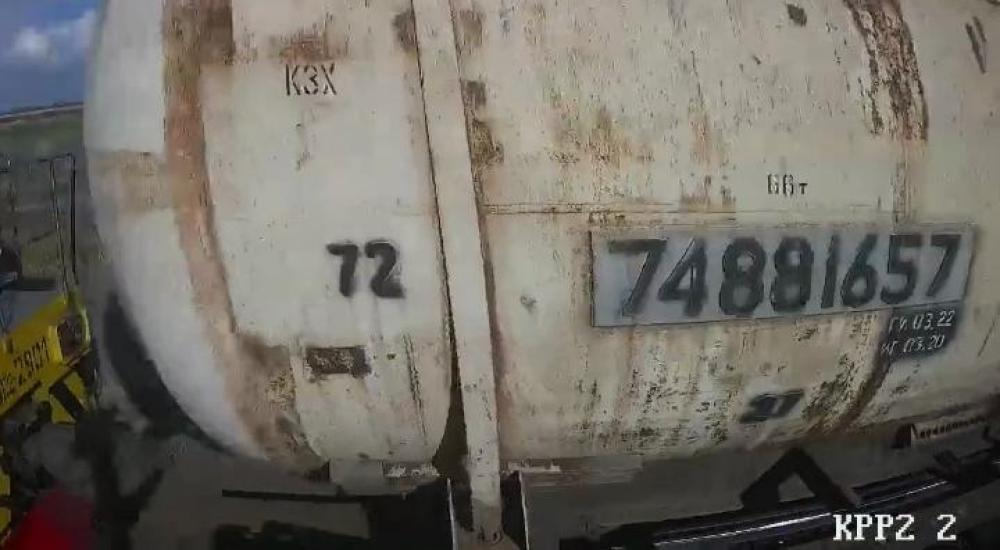Wagon-number: (599, 228, 967, 321)
